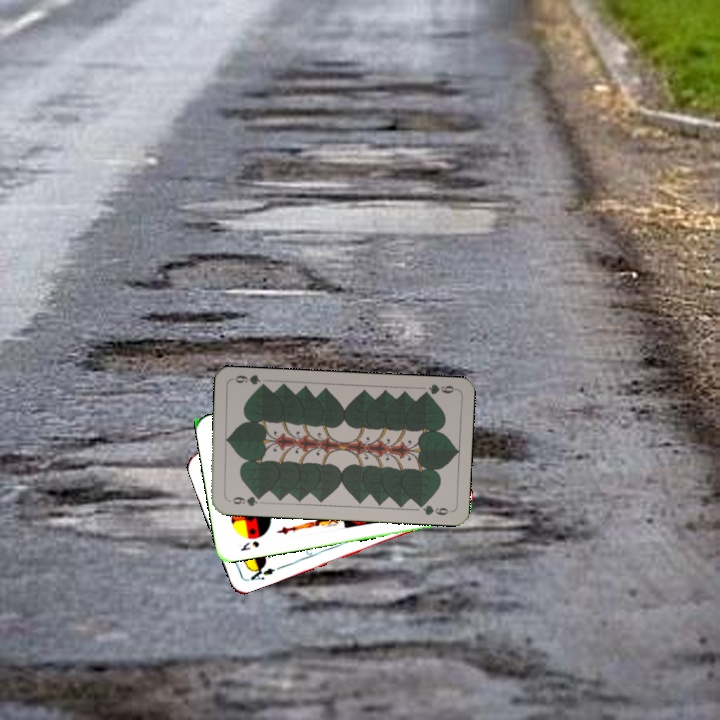EA: (246, 560, 278, 583)
G9: (417, 380, 458, 399), (224, 492, 265, 509)
SK: (236, 537, 262, 553)
